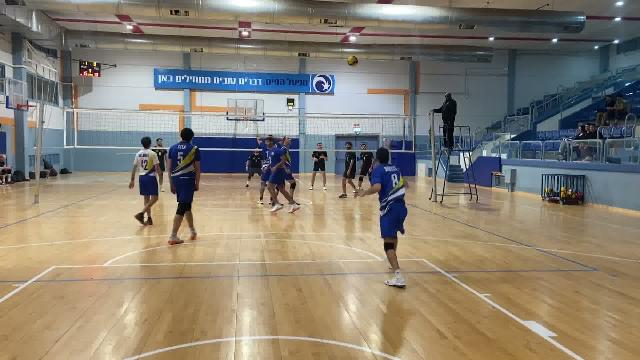ball: (344, 53, 360, 68)
